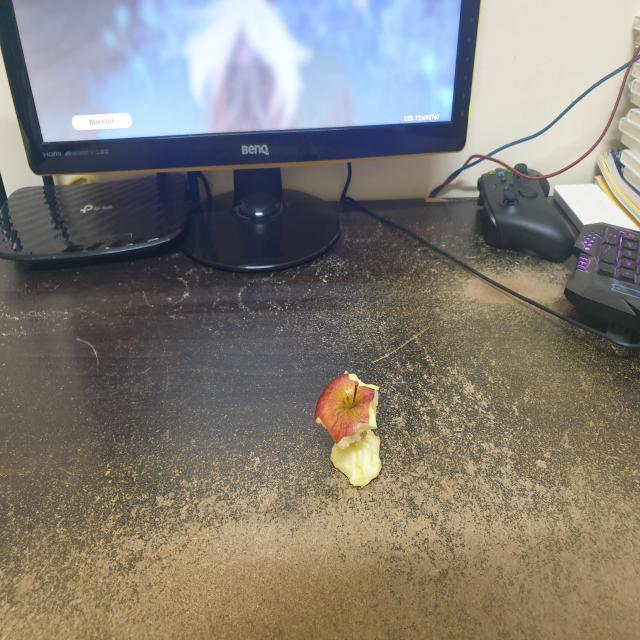apple: (312, 359, 390, 489)
